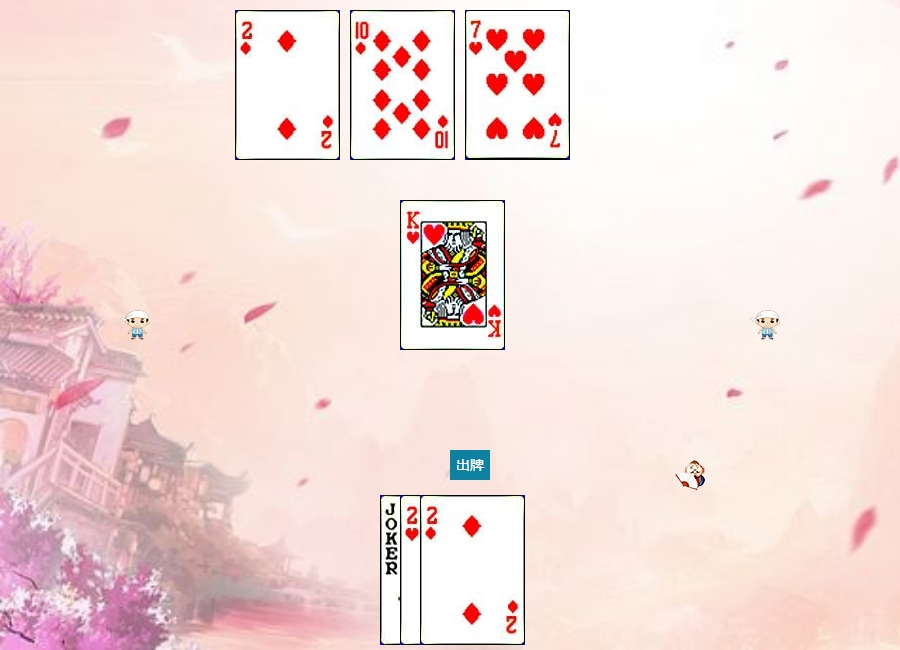10~1: (350, 10, 455, 160)
13~3: (400, 200, 505, 350)
15~1: (235, 10, 340, 160), (420, 495, 525, 645)
15~3: (400, 495, 505, 645)
17~3: (380, 495, 485, 645)
7~3: (465, 10, 570, 160)
